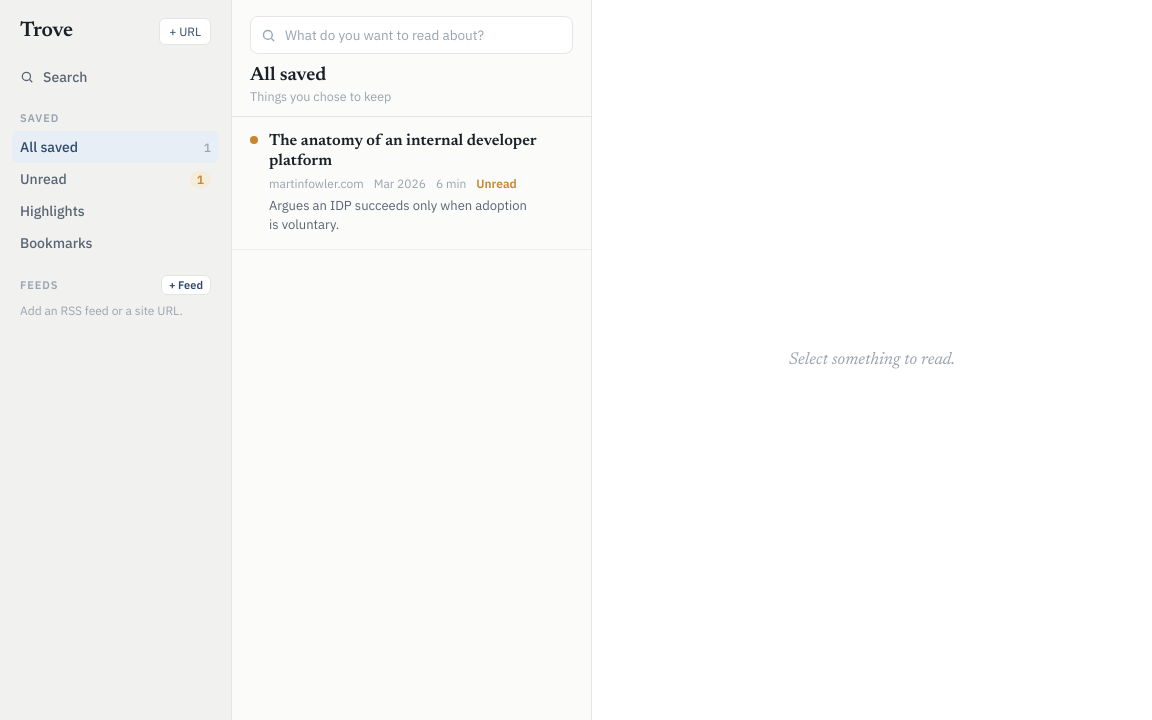
Test: App › auto-marks an item read when opened and shows the reader
What coordinates should you click on to do the following:
click the button "The anatomy of an internal developer platform"
I would click on:
 (384, 183)
Its box is [232, 117, 537, 249].
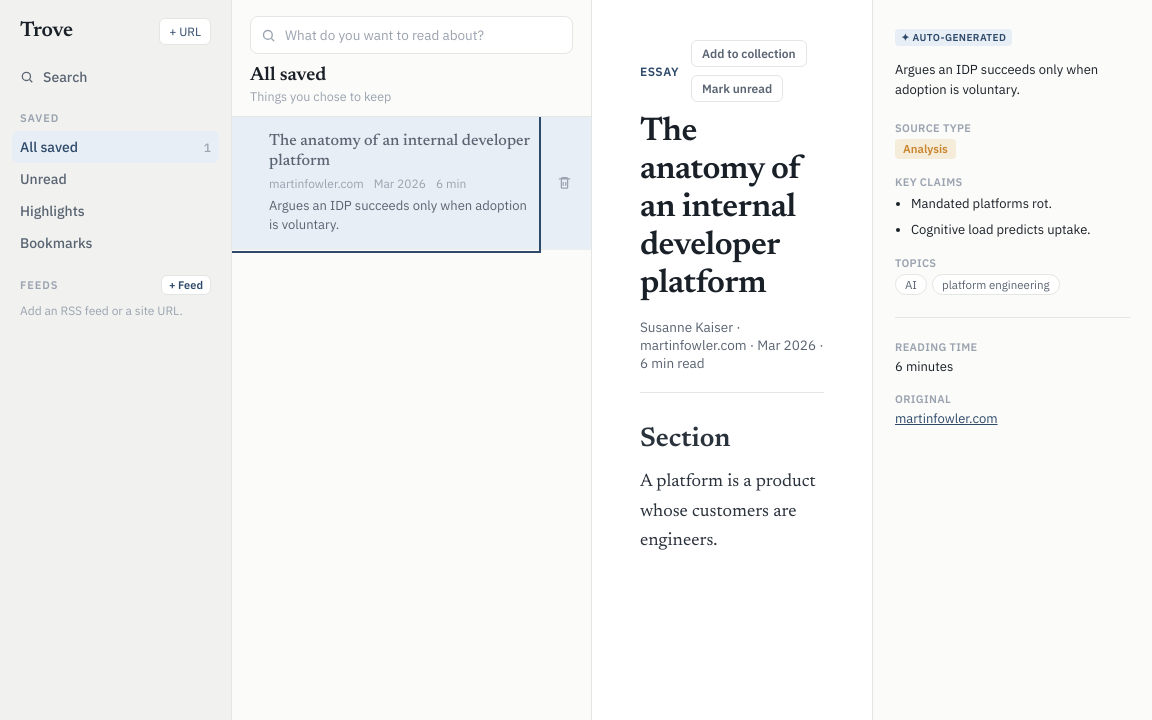
Result: the button "Mark unread" is shown at [691, 75, 783, 102]
